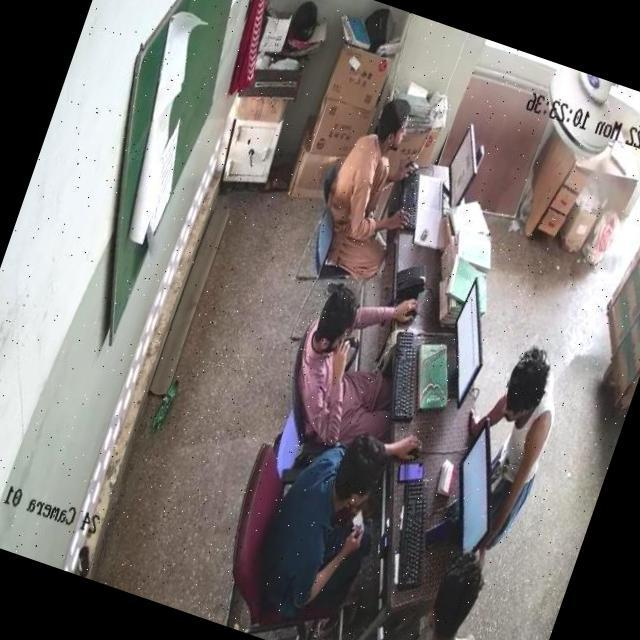person: (256, 407, 415, 621), (272, 270, 408, 442), (466, 333, 578, 518), (320, 95, 420, 258), (389, 559, 493, 640)
